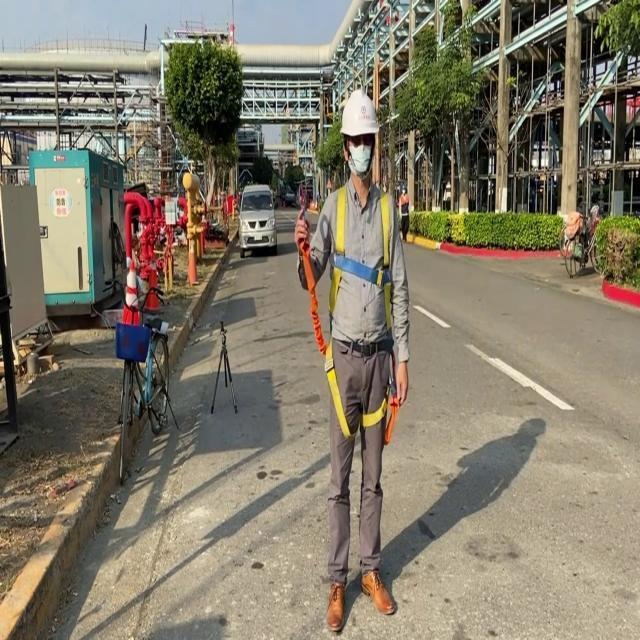Harness: (302, 247, 400, 446), (331, 186, 391, 330)
